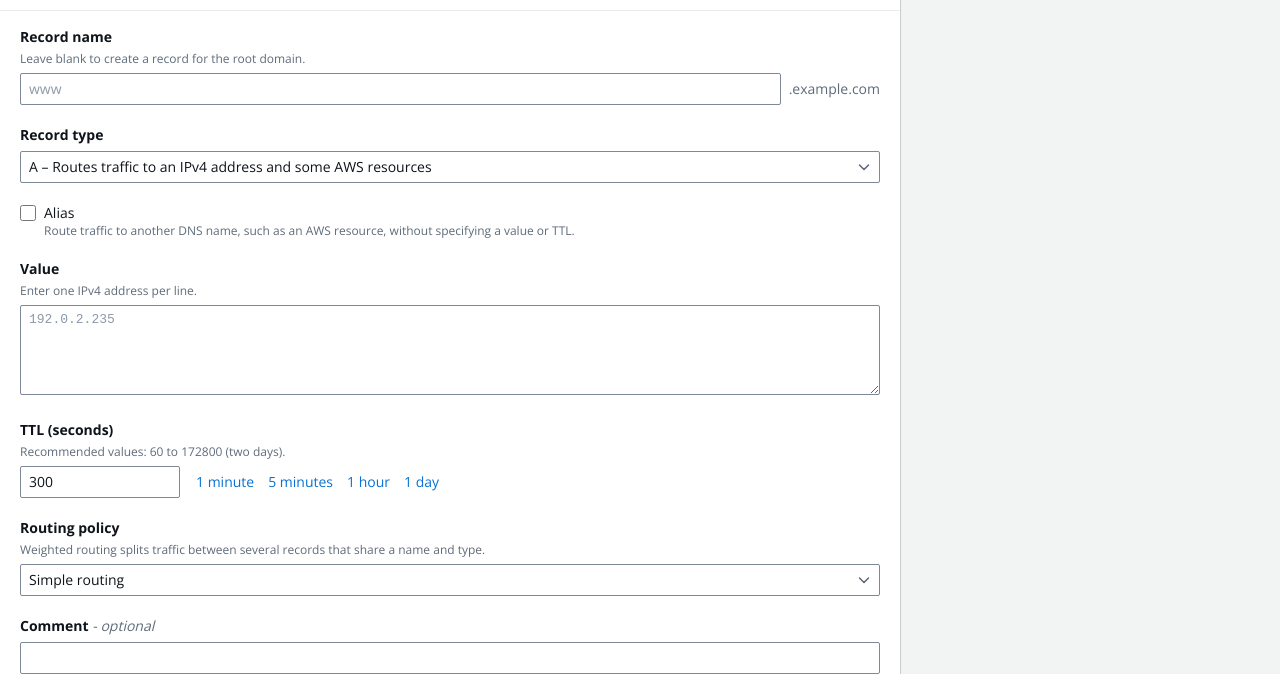
Test: <RecordForm> submission › requires a record ID and weight for weighted routing
Type "192.0.2.1" into the text box labelled "Value" at point(450, 350), box [20, 305, 880, 395]
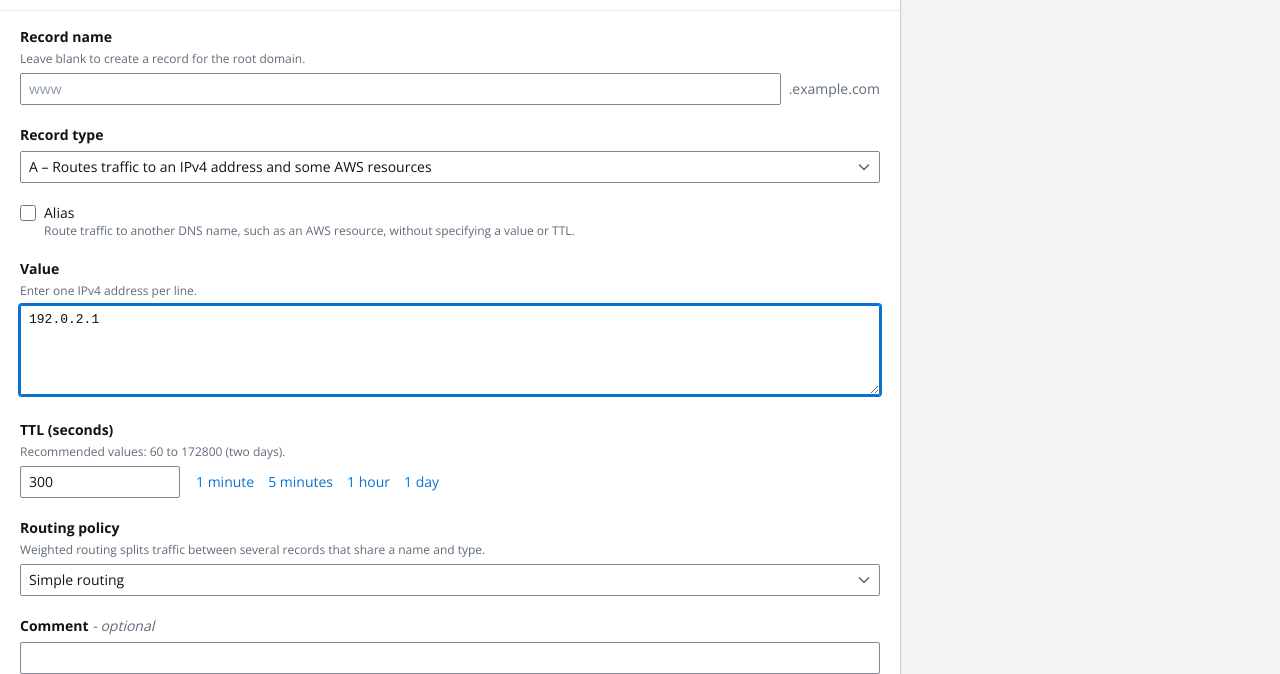
Select "Weighted" in the dropdown labelled "Routing policy" at point(450, 580), box [20, 564, 880, 596]
(page scrolled)
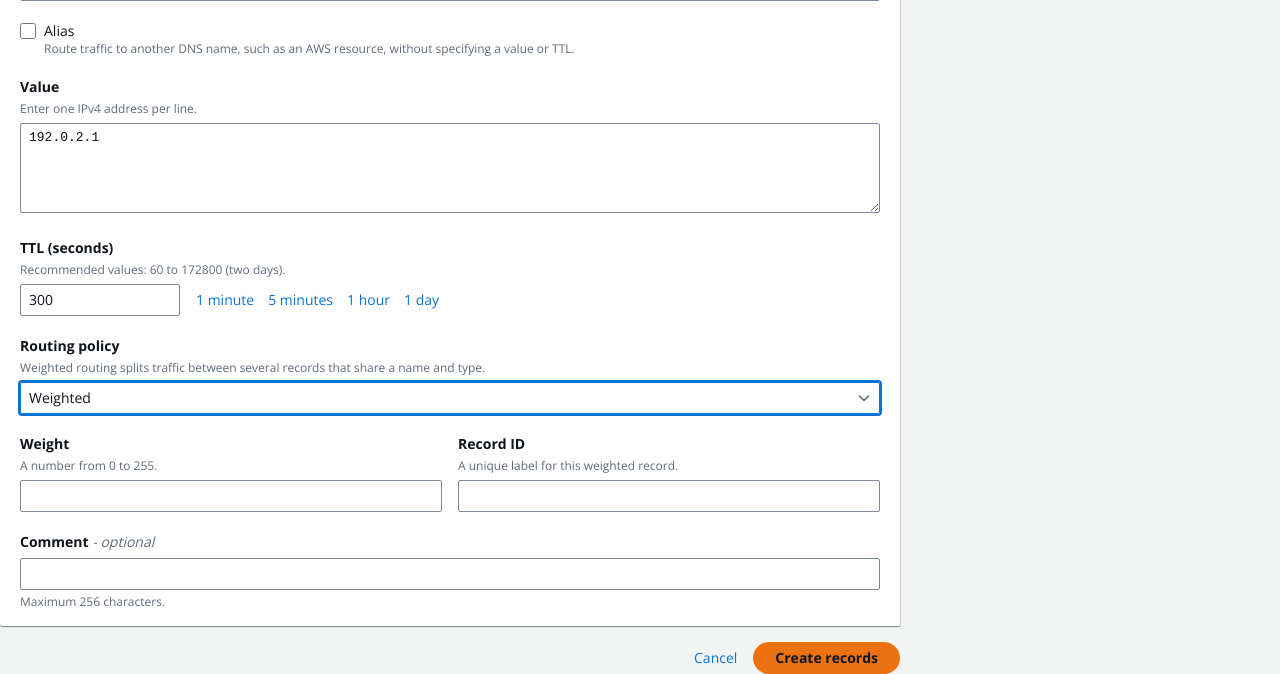
Click the button "Create records" at point(827, 658), box [753, 642, 900, 673]
(page scrolled)
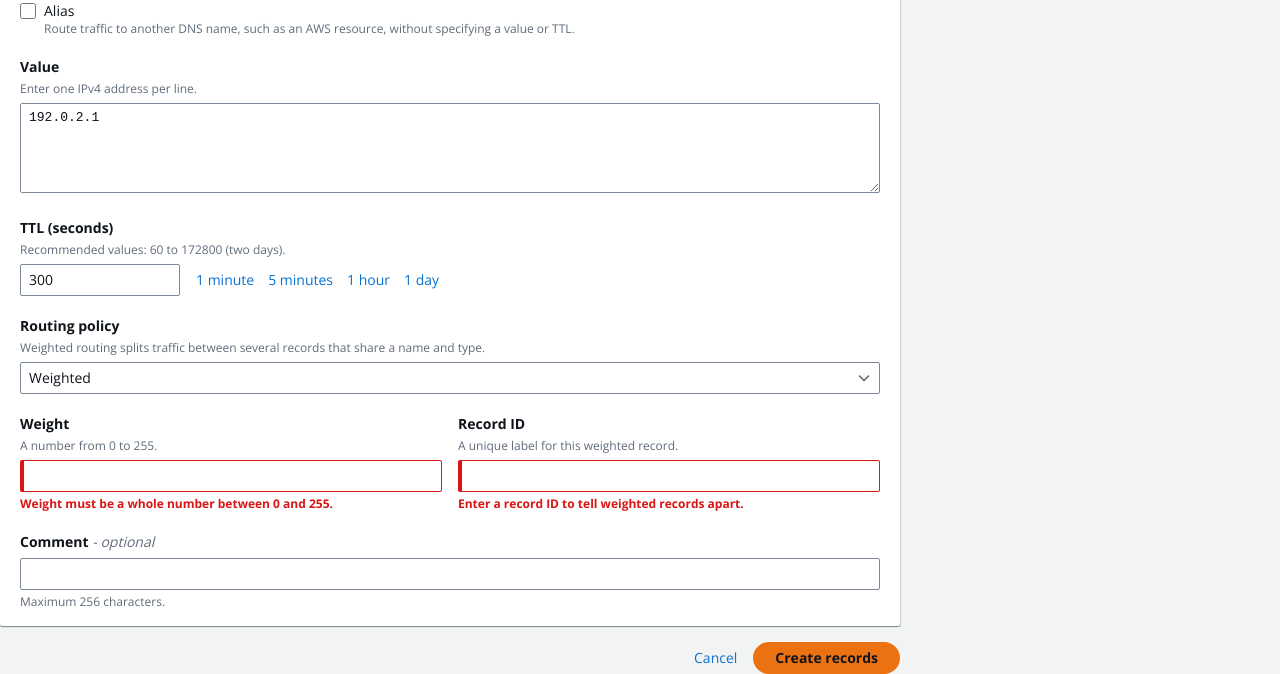
Now the text "Enter a record ID to tell weighted records apart." is shown, box [458, 495, 744, 512]
